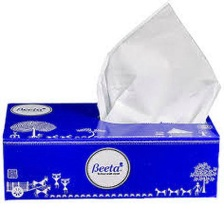book: (0, 96, 224, 205)
tissue: (88, 0, 224, 128)
